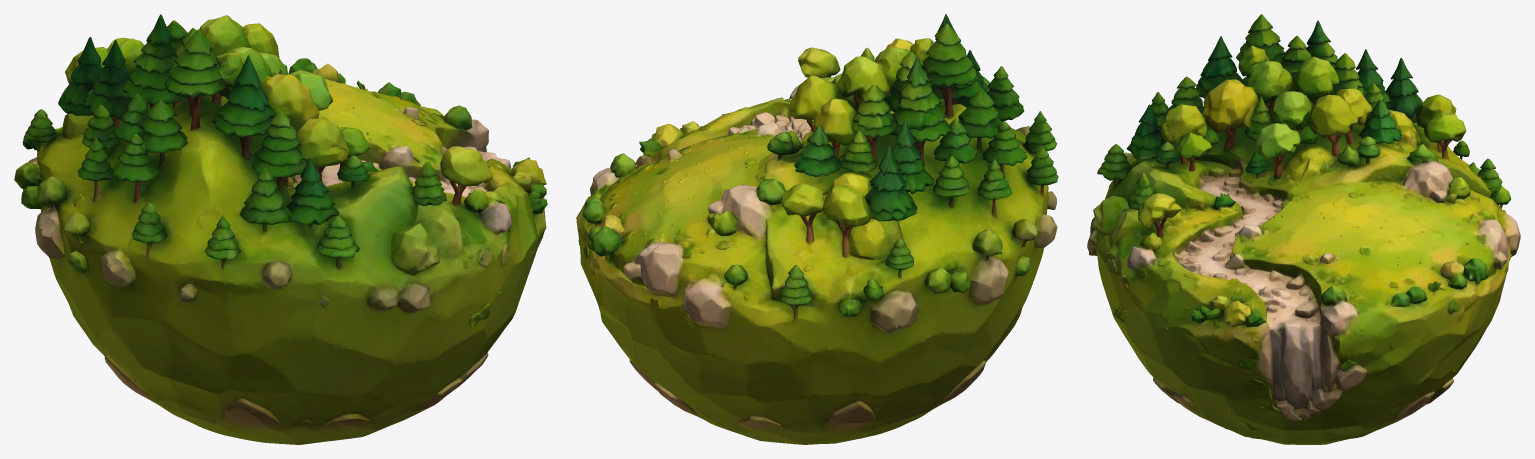
Rendered from player_planet_base.glb.
3 renders of one model, left to right at view 1: azimuth 30°, elevation 25°; view 2: azimuth 150°, elevation 25°; view 3: azimuth 270°, elevation 25°, orthographic. The views are drawn at different scales.
Parts seen in each view (by area): view 1: tripo_node_53796a8b-9979-4f89-805a-2b1569d8e02e; view 2: tripo_node_53796a8b-9979-4f89-805a-2b1569d8e02e; view 3: tripo_node_53796a8b-9979-4f89-805a-2b1569d8e02e.
Boxes of the visible parts, x1,y1,x2,y2 form: tripo_node_53796a8b-9979-4f89-805a-2b1569d8e02e: (14, 14, 547, 444); tripo_node_53796a8b-9979-4f89-805a-2b1569d8e02e: (576, 14, 1058, 444); tripo_node_53796a8b-9979-4f89-805a-2b1569d8e02e: (1087, 14, 1520, 444).
Size of the model in its own units: 0.9904 by 0.9187 by 1.
1 material, 1 textured.
